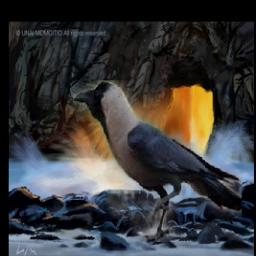Crow: (73, 81, 242, 243)
